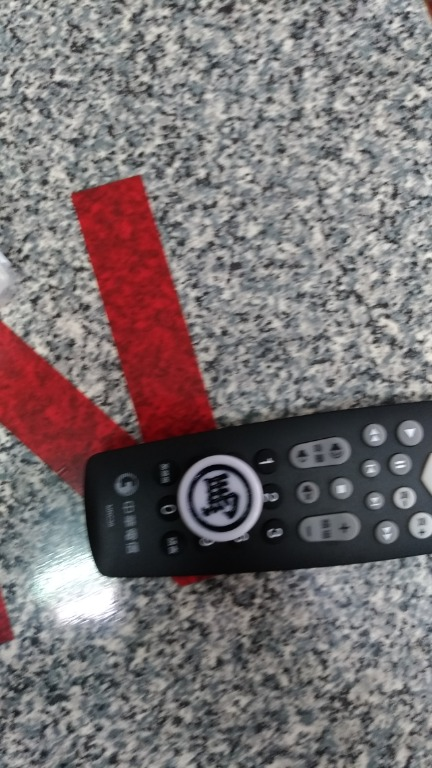b-knight: (169, 451, 289, 541)
